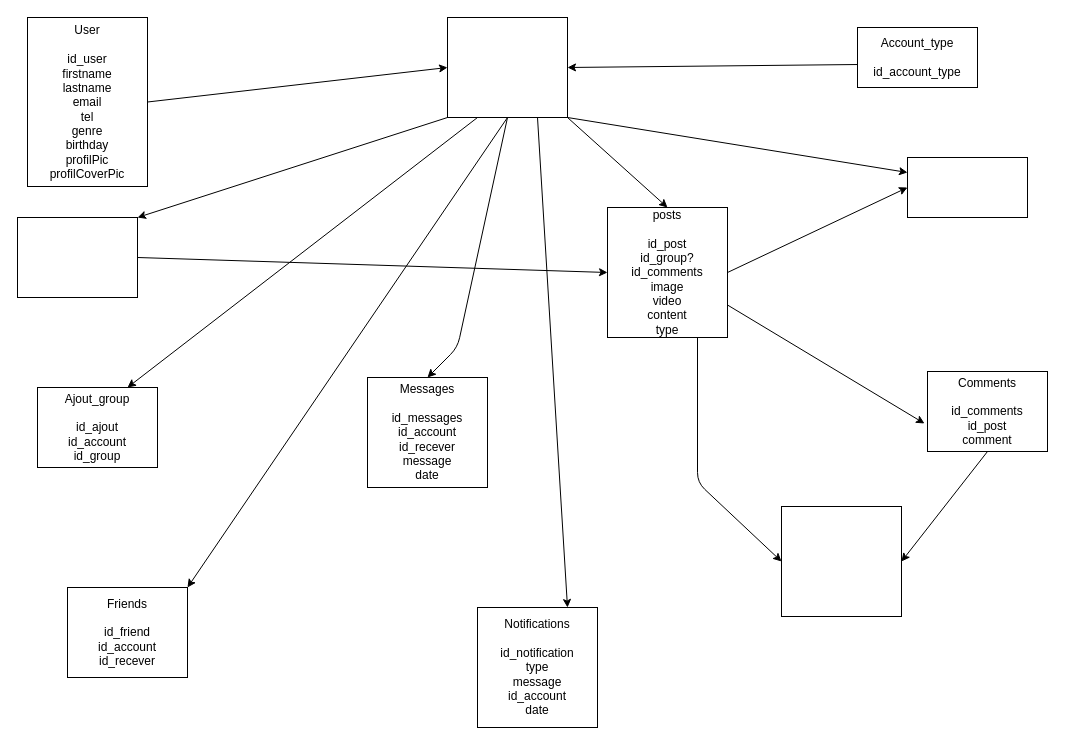
Some shapes in this 1065 by 745 pixel diagram are drawn without their labels. The centre of each missing label's shape, as x and y in pixels:
"Account id_account id_user password" belongs at pixel 507 67.
"comments_users id_post id_account" belongs at pixel 967 187.
"Group id_group nom description" belongs at pixel 77 257.
"Likes id_likes type id_post id_comments" belongs at pixel 841 561.
